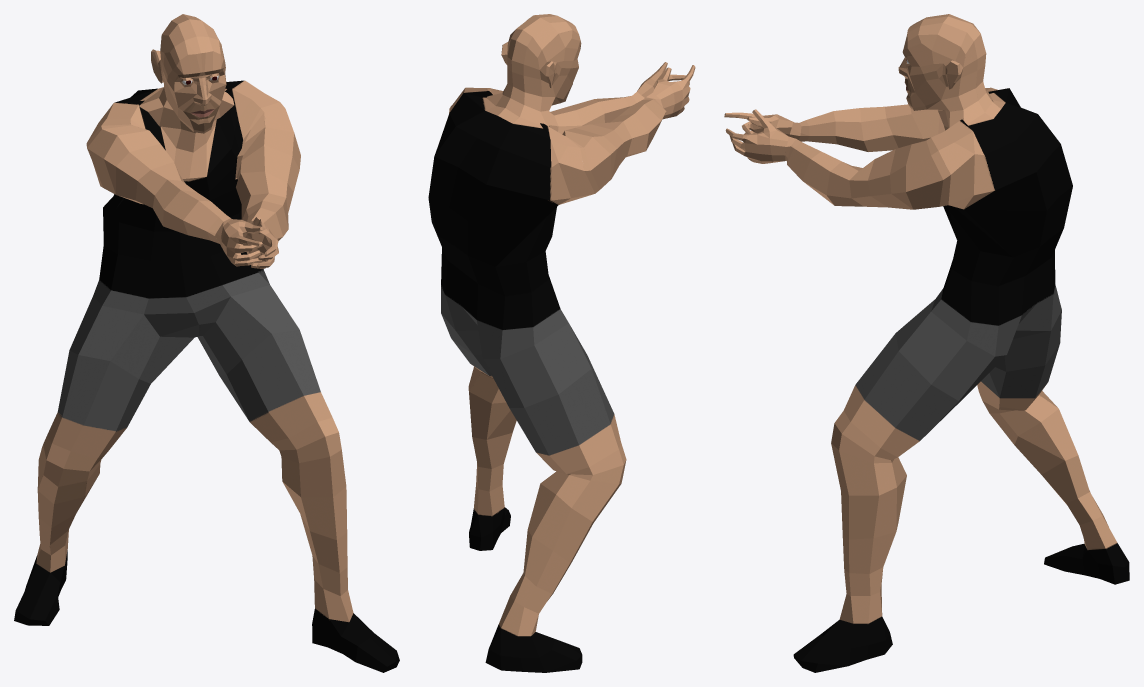
File: PlayerShoot(21).obj
The picture shows the model from 3 angles, left to right: view 1: azimuth 30°, elevation 25°; view 2: azimuth 150°, elevation 25°; view 3: azimuth 270°, elevation 25°; orthographic projection. The views are drawn at different scales.
Visible parts, largest first — view 1: Plane002; view 2: Plane002; view 3: Plane002.
Boxes of the visible parts, box(x1,y1,x2,y2) form: Plane002: box(14, 14, 399, 672); Plane002: box(428, 14, 695, 672); Plane002: box(724, 14, 1129, 672).
Bounding box in the file's own units: 716 × 1664 × 1033.
